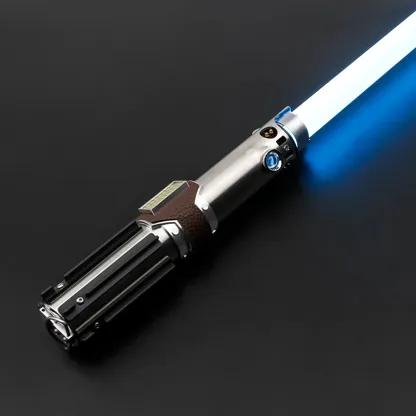lightsaber: (29, 0, 416, 369)
